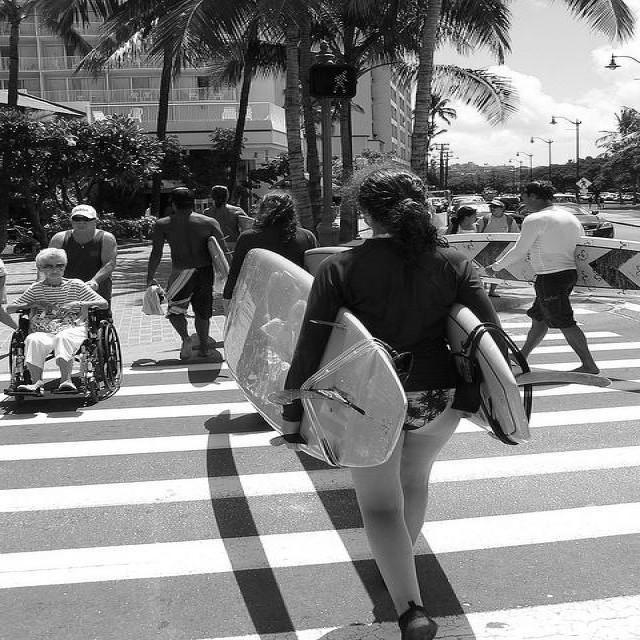vehicle: (554, 202, 615, 238), (447, 196, 487, 214), (468, 204, 490, 218), (499, 197, 519, 211), (552, 194, 577, 202), (604, 193, 622, 200), (621, 195, 633, 200)
